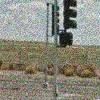traffic lights: (62, 0, 77, 29)
